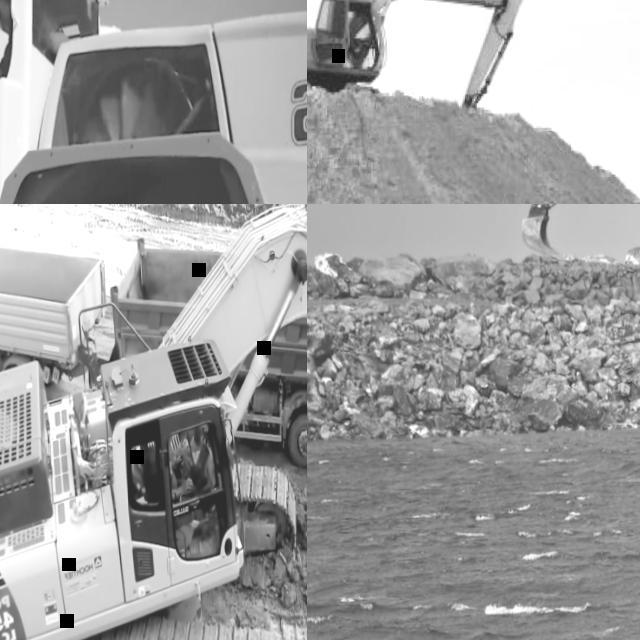vest: (132, 457, 146, 497)
